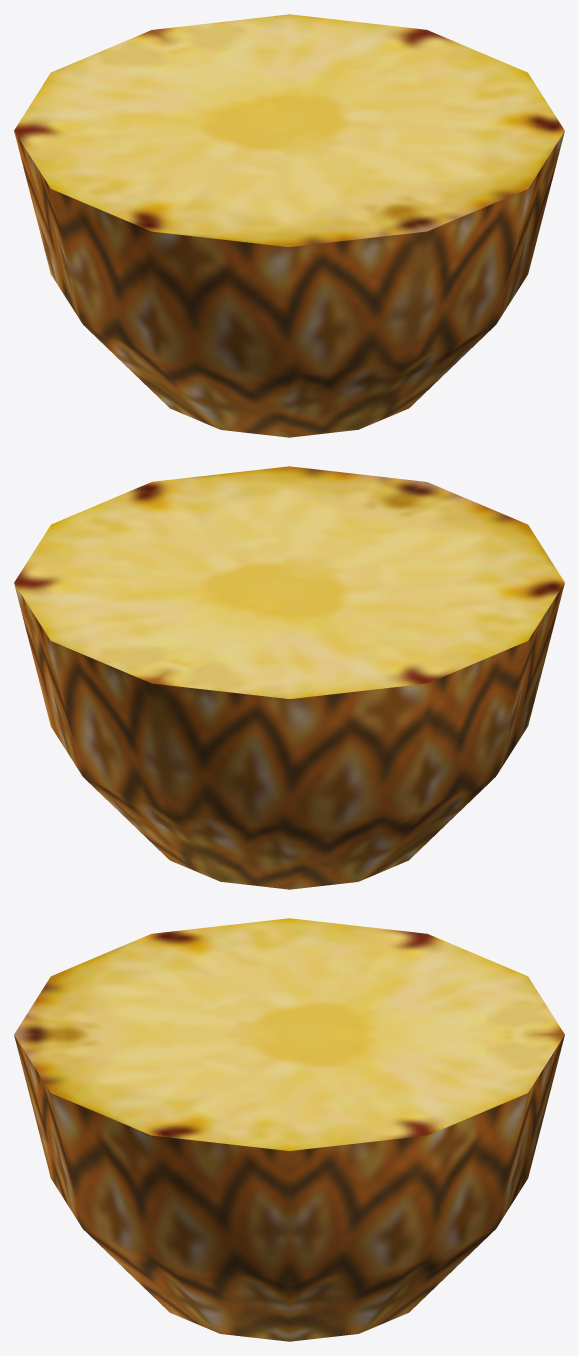
Rendered from ananas_p2.FBX.
3 renders of one model, top to bottom at view 1: azimuth 30°, elevation 25°; view 2: azimuth 150°, elevation 25°; view 3: azimuth 270°, elevation 25°, orthographic.
Parts seen in each view (by area): view 1: Object026; view 2: Object026; view 3: Object026.
Boxes of the visible parts, x1,y1,x2,y2 form: Object026: [14, 14, 564, 437]; Object026: [14, 466, 564, 889]; Object026: [14, 918, 564, 1341].
Size of the model in its own units: 21.96 by 11.68 by 21.96.
Materials: 1 (1 with a texture image).
